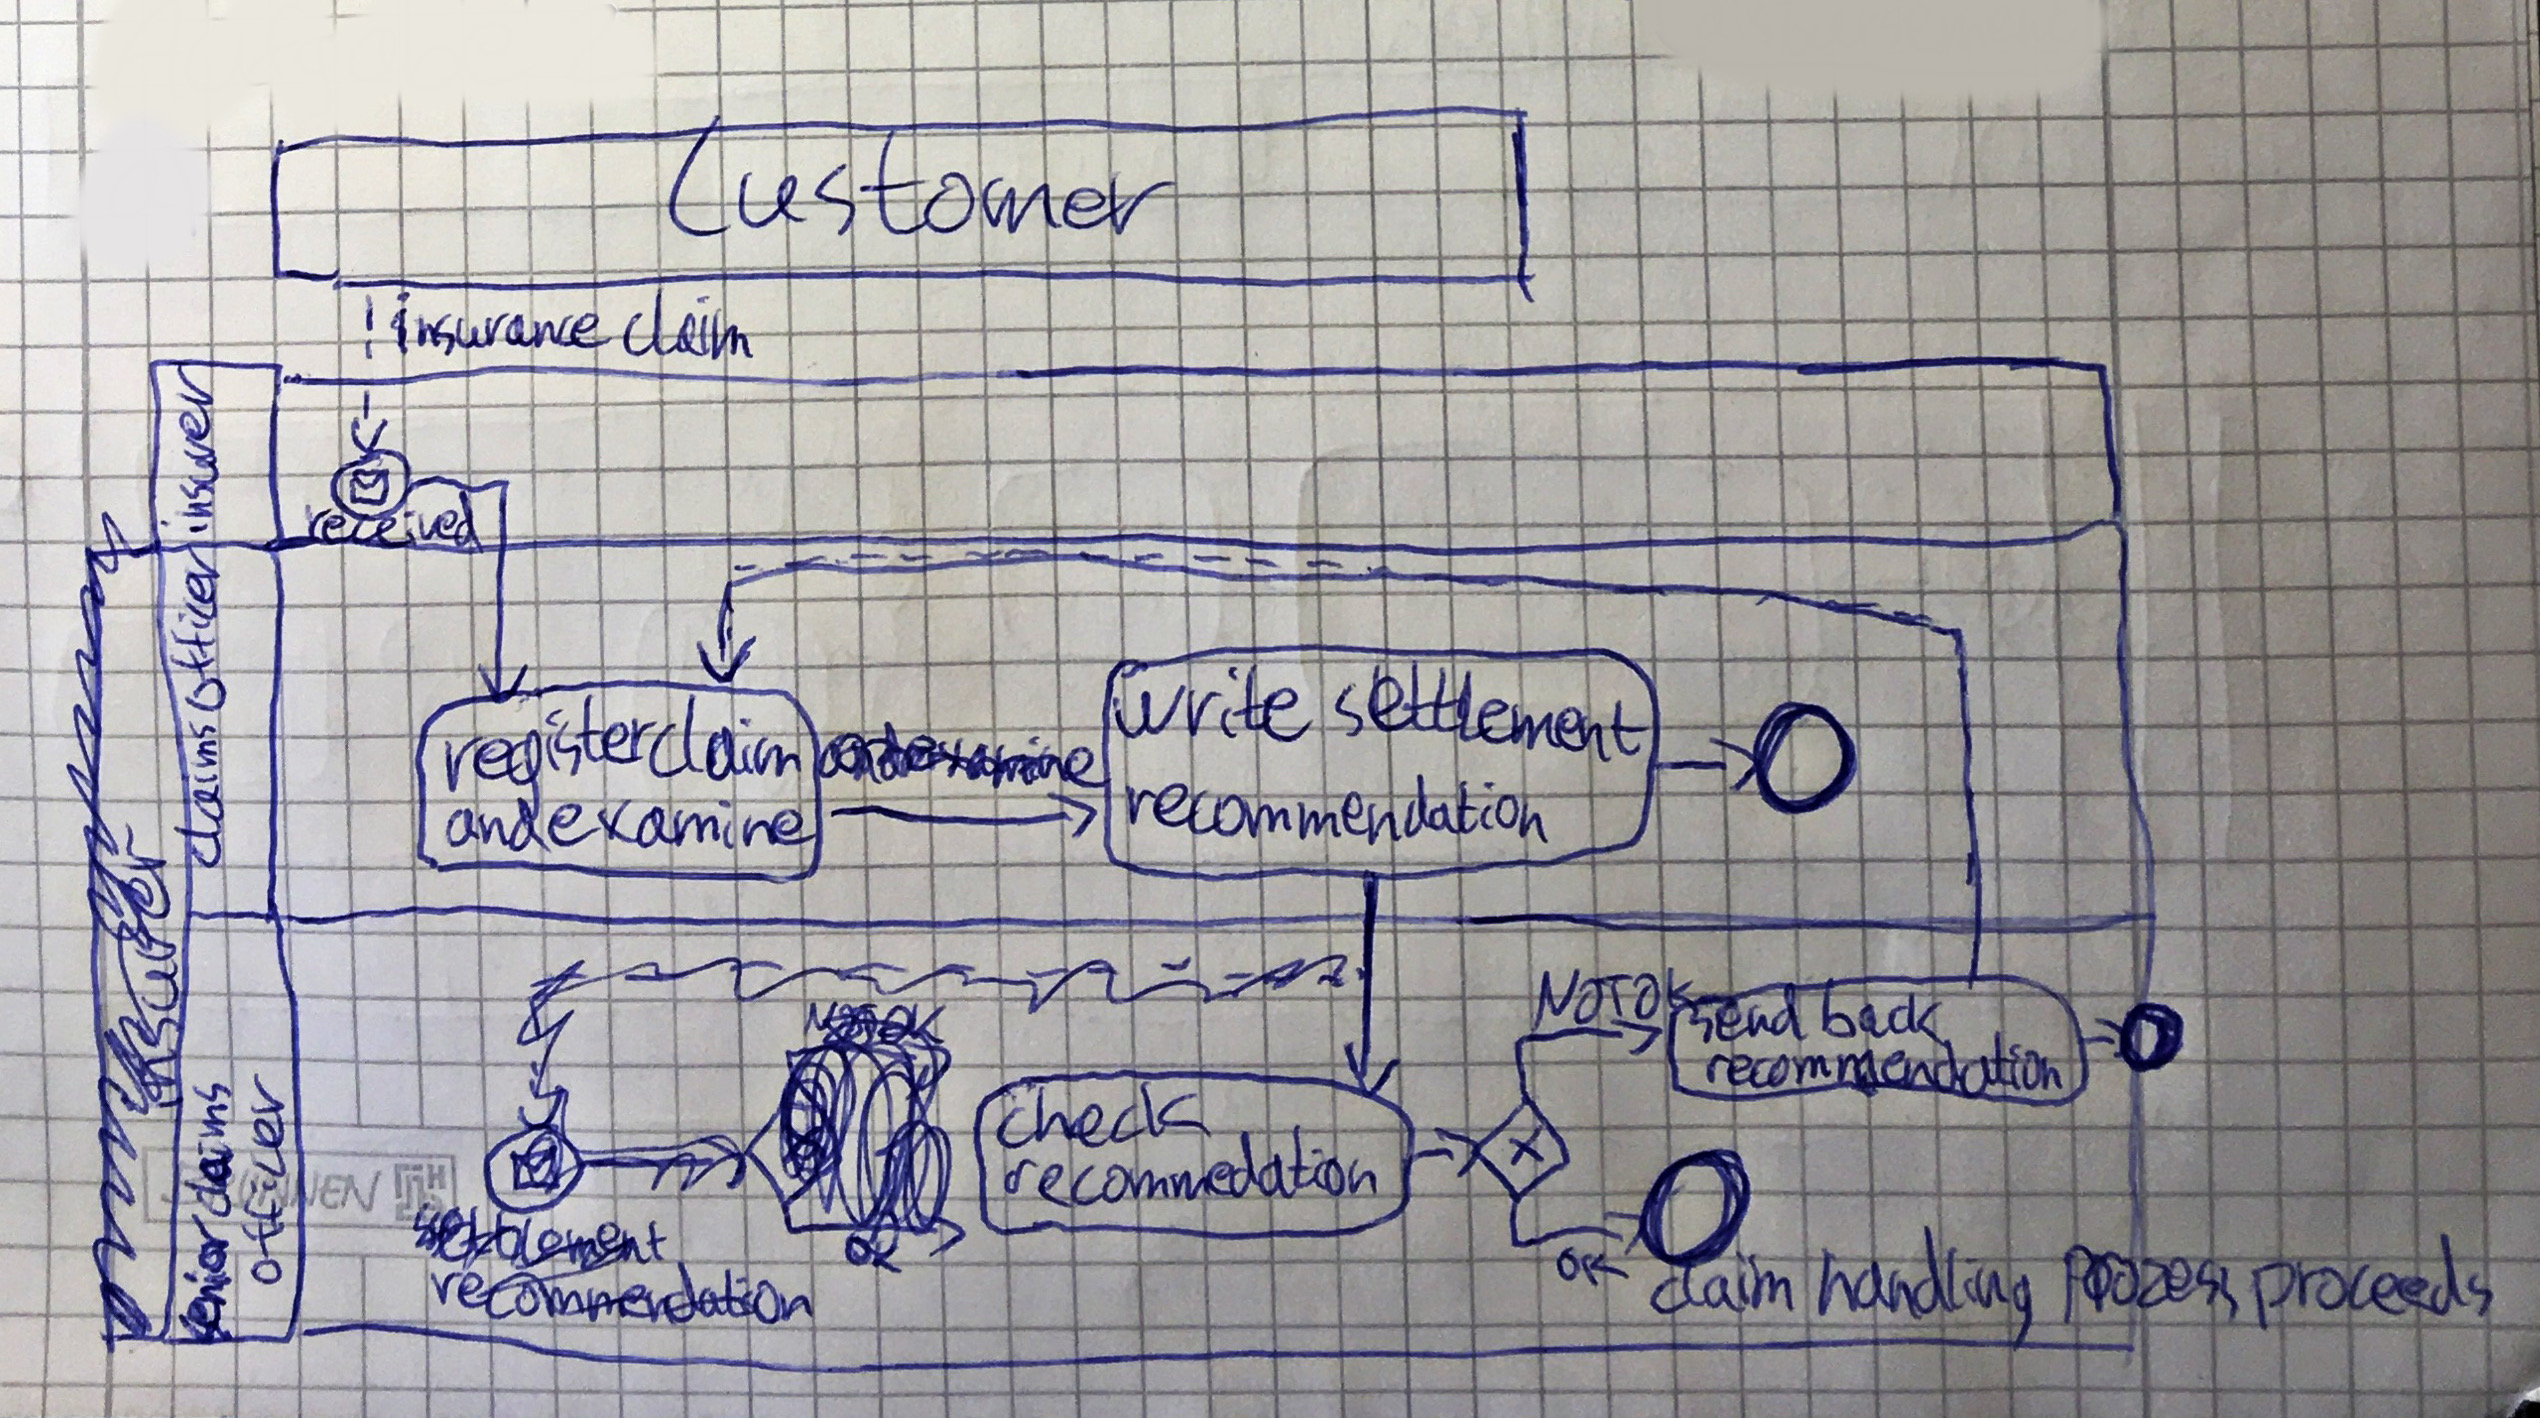Customer: (652, 99, 1190, 249)
Insurer: (106, 820, 188, 1113)
NOT: (1525, 959, 1640, 1033)
OK: (1547, 1240, 1636, 1298)
Ok: (1629, 968, 1701, 1022)
and: (433, 788, 556, 858)
back: (1806, 966, 1950, 1052)
check: (986, 1073, 1219, 1160)
claim: (637, 684, 811, 792), (1638, 1242, 1806, 1329), (611, 281, 761, 370)
claims: (162, 713, 230, 877), (183, 1076, 237, 1226)
examine: (532, 788, 827, 860)
handling: (1806, 1214, 2045, 1364)
insurance: (380, 283, 618, 365)
insurer: (147, 352, 227, 544)
officer: (159, 537, 236, 720), (236, 1074, 291, 1298)
proceeds: (2235, 1223, 2505, 1343)
prozess: (2050, 1231, 2245, 1338)
received: (295, 483, 492, 563)
recommedation: (989, 1115, 1389, 1219)
recommendation: (1110, 762, 1558, 860), (1692, 1022, 2076, 1101)
register: (431, 685, 665, 830)
send: (1690, 984, 1816, 1053)
senior: (178, 1210, 236, 1343)
settlement: (1322, 649, 1661, 776)
write: (1099, 651, 1322, 755)
